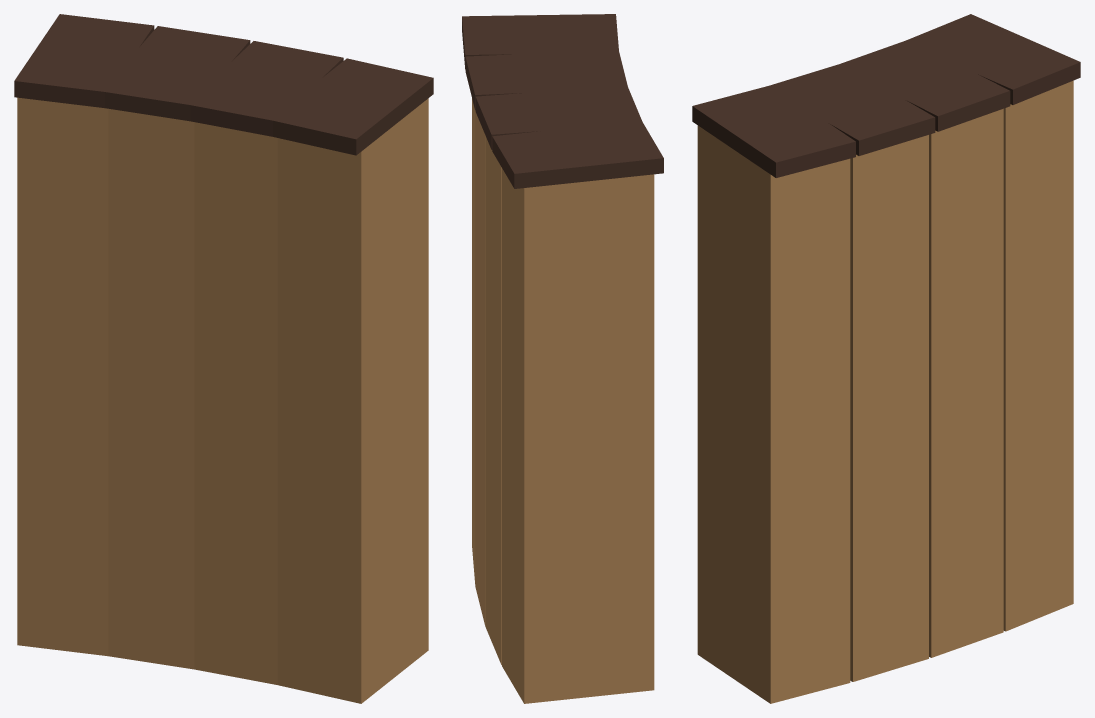
3 renders of one model, left to right at view 1: azimuth 30°, elevation 25°; view 2: azimuth 150°, elevation 25°; view 3: azimuth 270°, elevation 25°, orthographic. The views are drawn at different scales.
Parts seen in each view (by area): view 1: expositor_curvo_n; view 2: expositor_curvo_n; view 3: expositor_curvo_n.
Boxes of the visible parts, <box> form: expositor_curvo_n: <box>14,14,433,703</box>; expositor_curvo_n: <box>462,14,663,703</box>; expositor_curvo_n: <box>692,14,1080,703</box>.
Size of the model in its own units: 1.02 by 1.13 by 1.75.
